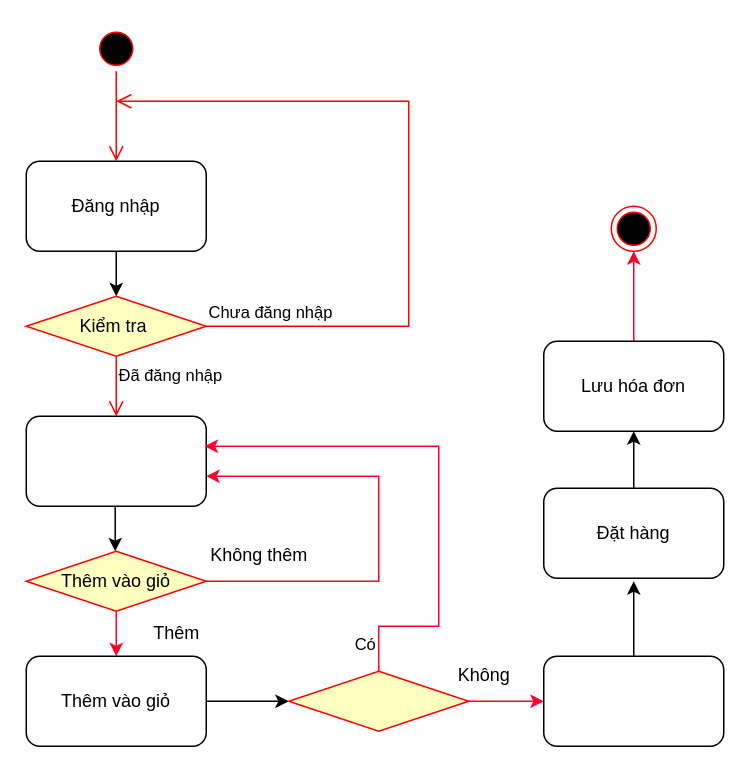
Image size: 750x773. Some labels were removed from this diagram. The centre of each missing label's shape, as x and y in pixels:
"Thêm sp khác" goes at point (378, 700).
"Tìm kiếm và Xem Sản phẩm" goes at point (115, 460).
"Xem chi tiết giỏ hàng" goes at point (633, 700).
